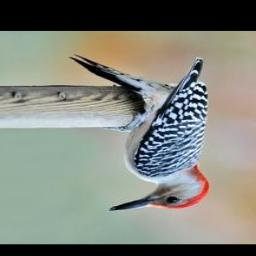Woodpecker: (59, 43, 224, 218)
